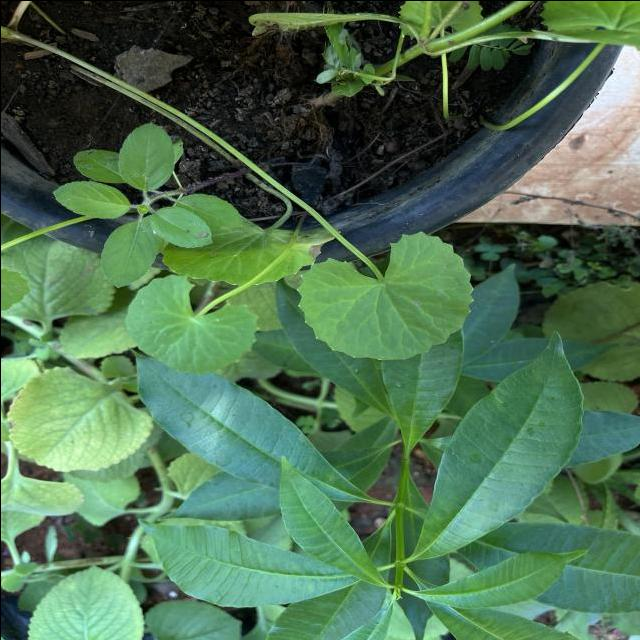Centella asiatica: (293, 228, 476, 361), (157, 191, 342, 286)
